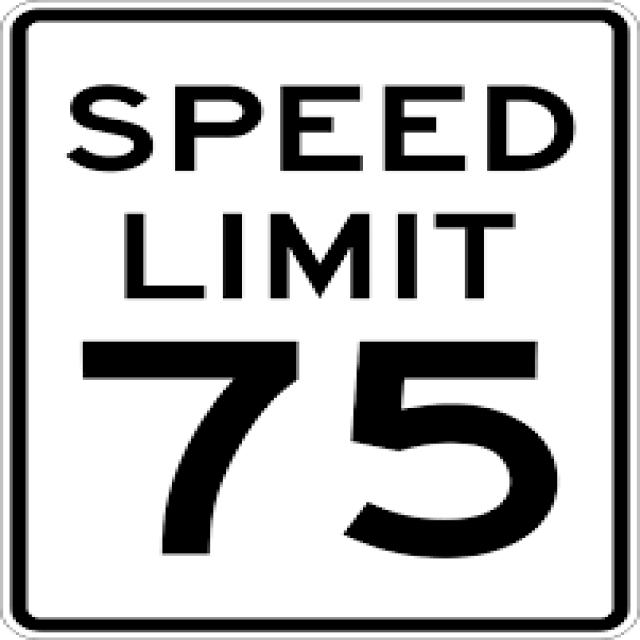speedLimit75: (4, 5, 626, 630)
